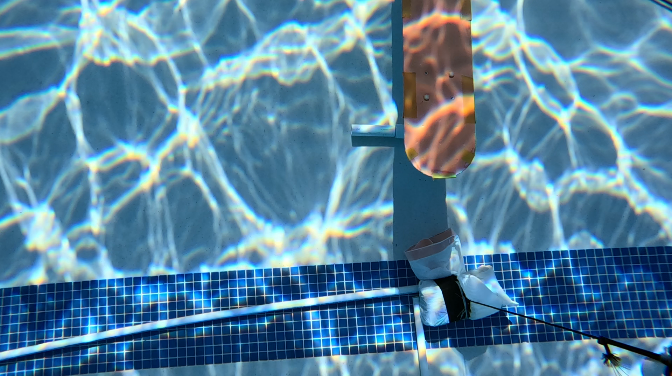pathmarker: (400, 0, 475, 177)
